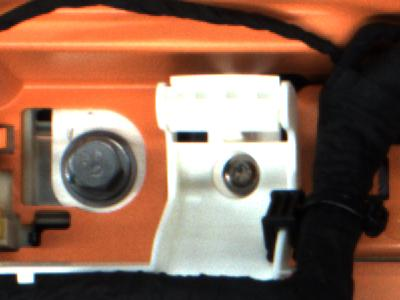nut_b: (54, 125, 143, 210)
